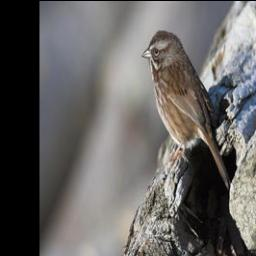Sparrow: (141, 29, 230, 191)
